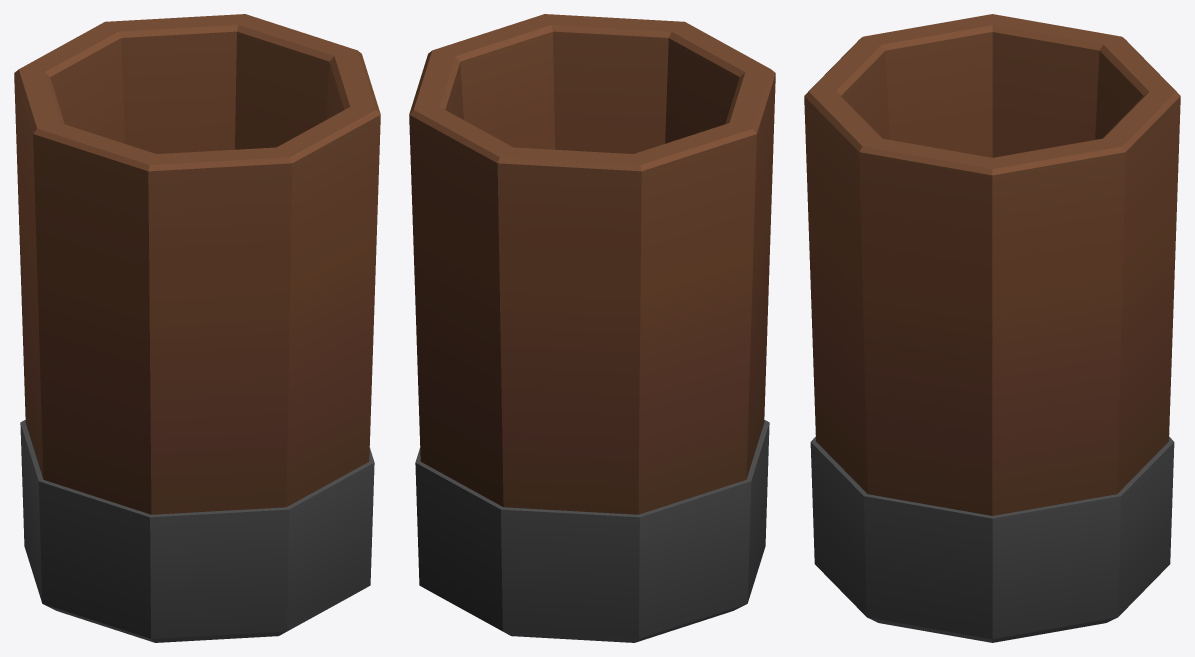
File: Glass_2.fbx
The picture shows the model from 3 angles, left to right: view 1: azimuth 30°, elevation 25°; view 2: azimuth 150°, elevation 25°; view 3: azimuth 270°, elevation 25°; orthographic projection.
Parts seen in each view (by area): view 1: Glass_2; view 2: Glass_2; view 3: Glass_2.
Boxes of the visible parts, x1,y1,x2,y2 form: Glass_2: (14, 14, 380, 642); Glass_2: (409, 14, 775, 642); Glass_2: (804, 14, 1180, 642).
Size of the model in its own units: 17.67 by 25.01 by 17.67.
